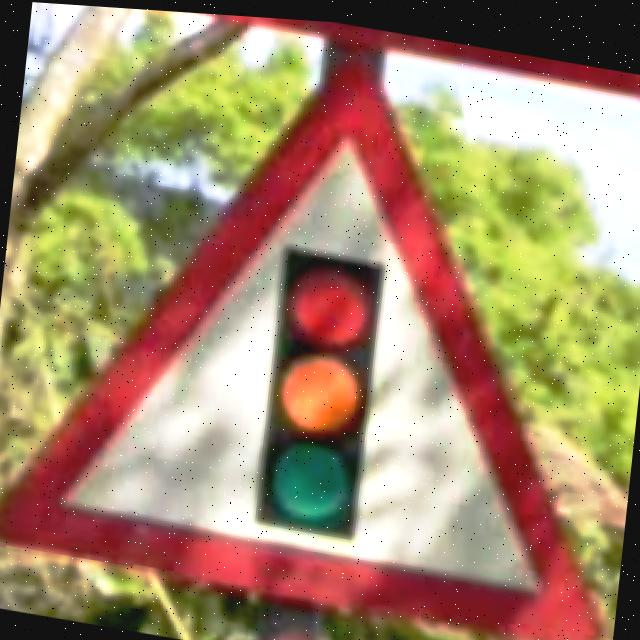signalahead: (0, 48, 600, 640)
